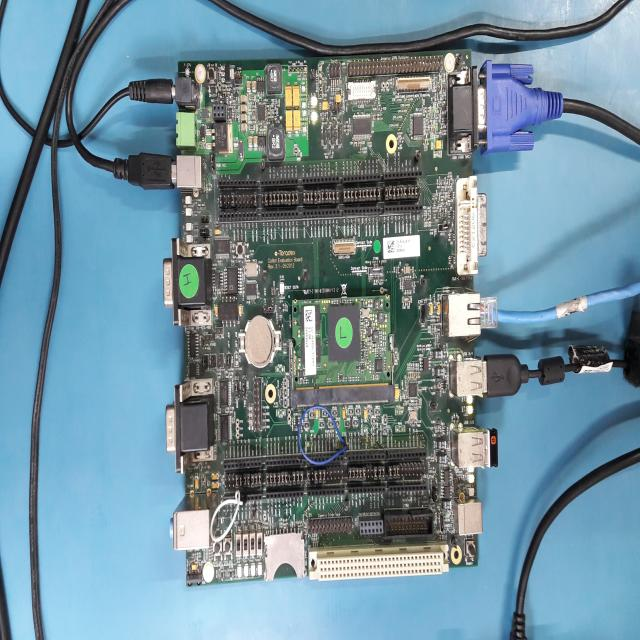som: (285, 292, 399, 387)
